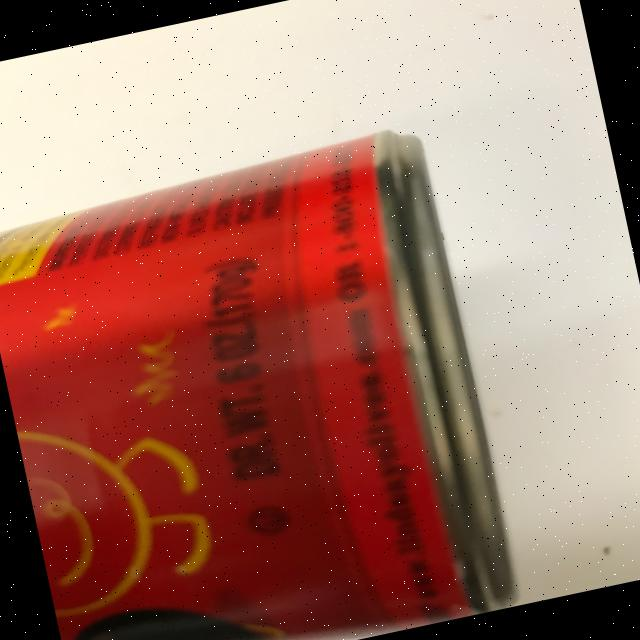metal: (0, 121, 524, 640)
